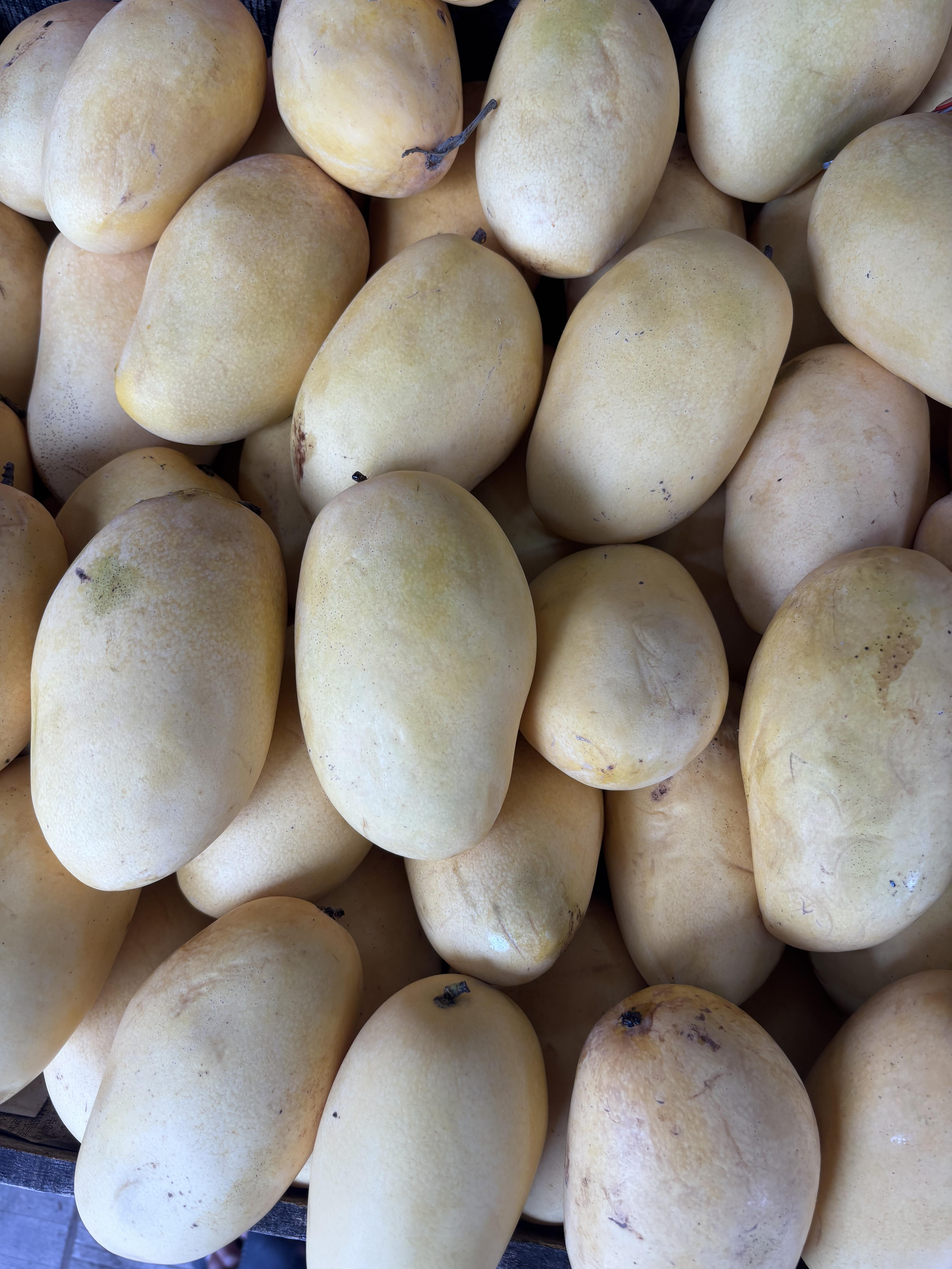mango: (75, 897, 362, 1261), (31, 487, 287, 890), (295, 471, 536, 860), (527, 229, 792, 544)
occluded: (739, 546, 952, 952), (115, 154, 368, 444), (288, 234, 543, 521), (564, 984, 820, 1269), (306, 974, 547, 1269), (723, 343, 930, 633), (42, 0, 266, 254), (474, 0, 678, 278), (178, 625, 370, 917), (606, 699, 784, 1004), (685, 0, 952, 202), (26, 233, 219, 502), (521, 544, 728, 791), (405, 735, 603, 986), (0, 757, 139, 1103), (503, 897, 646, 1224), (802, 969, 952, 1269), (44, 874, 212, 1141), (808, 113, 952, 406), (273, 0, 463, 197), (566, 134, 746, 314), (0, 0, 113, 220), (317, 846, 442, 1032), (56, 445, 238, 561), (369, 130, 506, 274), (0, 485, 67, 768), (810, 883, 952, 1013), (748, 173, 844, 360), (237, 417, 311, 608), (0, 203, 47, 413), (236, 57, 306, 161), (906, 31, 952, 113), (914, 493, 952, 571)
